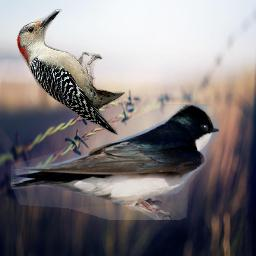Swallow: (11, 104, 219, 220)
Woodpecker: (16, 9, 125, 135)
